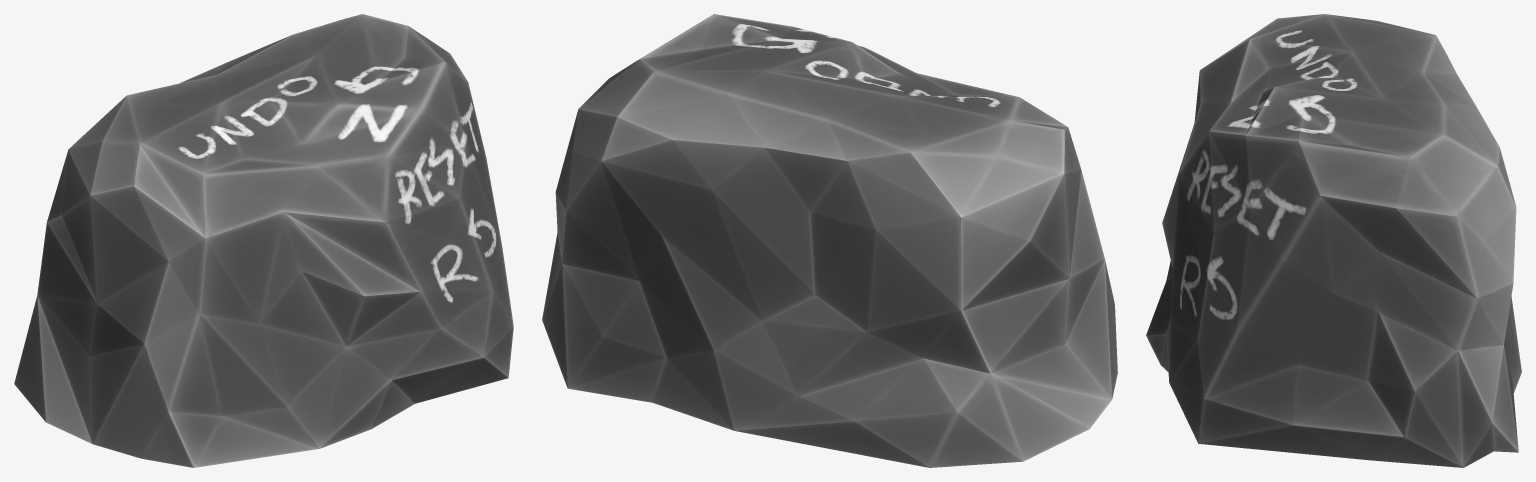
File: Undo_Reset_Rock.fbx
The picture shows the model from 3 angles, left to right: view 1: azimuth 30°, elevation 25°; view 2: azimuth 150°, elevation 25°; view 3: azimuth 270°, elevation 25°; orthographic projection. The views are drawn at different scales.
Parts seen in each view (by area): view 1: Undo_Reset_Rock; view 2: Undo_Reset_Rock; view 3: Undo_Reset_Rock.
Part boxes in pixels (box(x1,y1,x2,y2)): Undo_Reset_Rock: box(14, 14, 513, 467); Undo_Reset_Rock: box(542, 14, 1117, 467); Undo_Reset_Rock: box(1146, 14, 1521, 467).
Bounding box in the file's own units: 763 × 452 × 522.
1 material, 1 textured.
